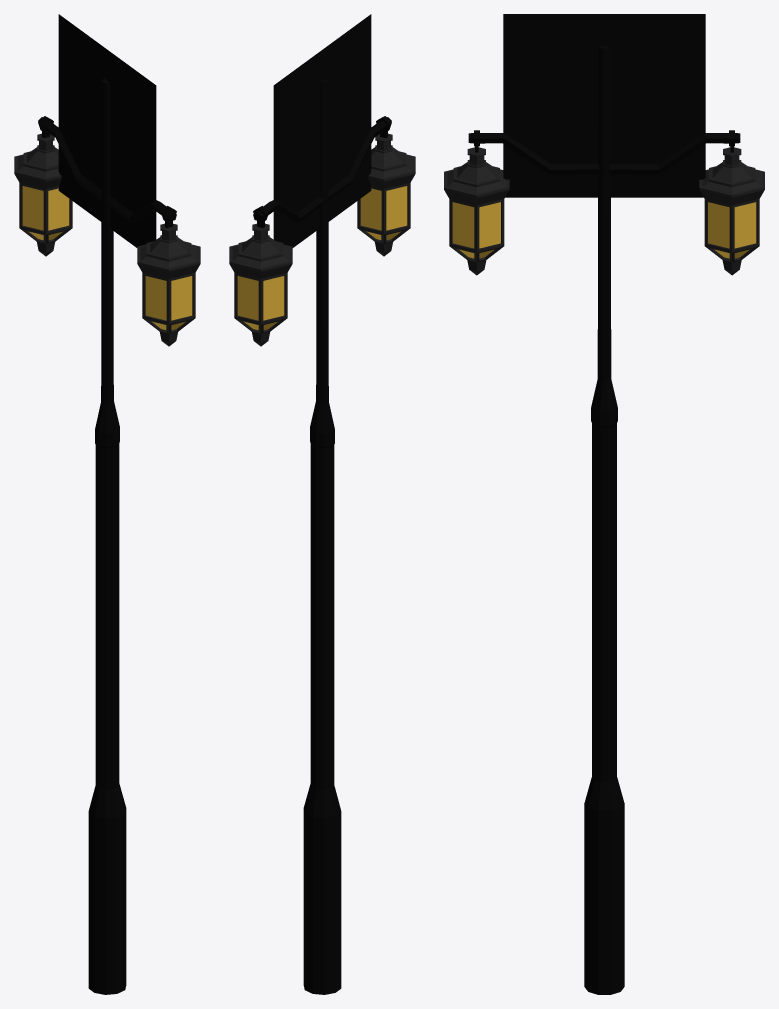
Rendered from Lamp.fbx.
3 renders of one model, left to right at view 1: azimuth 30°, elevation 25°; view 2: azimuth 150°, elevation 25°; view 3: azimuth 270°, elevation 25°, orthographic. The views are drawn at different scales.
Parts seen in each view (by area): view 1: Lamp; view 2: Lamp; view 3: Lamp.
Boxes of the visible parts, bbox=[...] form: Lamp: bbox=[14, 14, 200, 994]; Lamp: bbox=[229, 14, 415, 994]; Lamp: bbox=[444, 14, 764, 994].
Bounding box in the file's own units: 37.31 × 530 × 158.
Materials: 5 (1 with a texture image).
